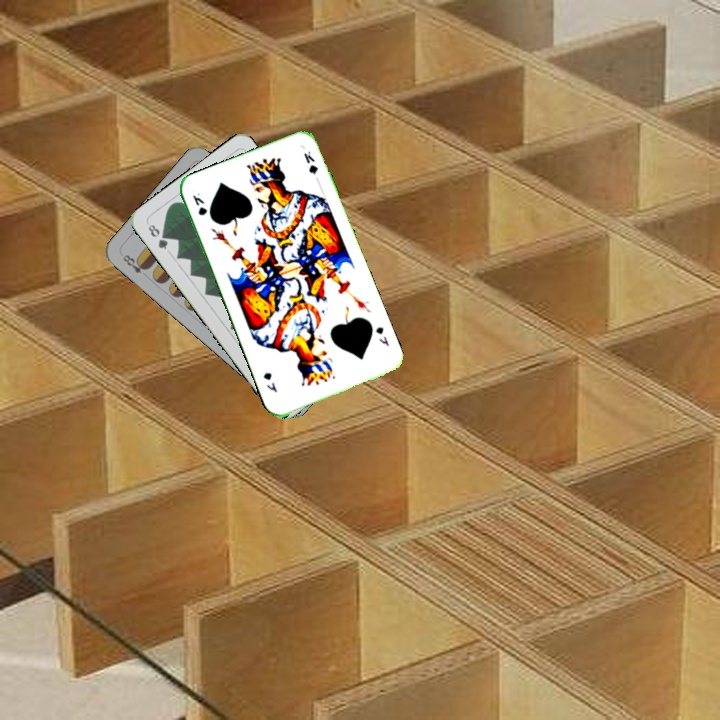E8: (117, 250, 151, 276)
G8: (144, 220, 171, 252)
GK: (188, 188, 210, 218), (371, 323, 392, 349)
